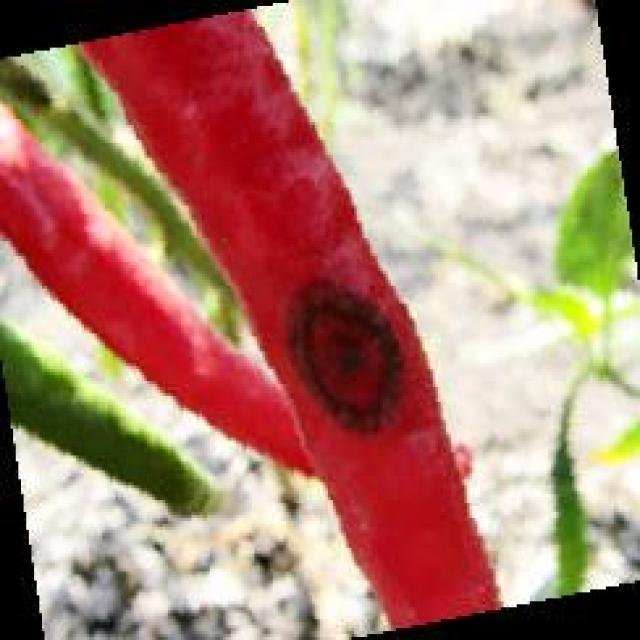Moko: (270, 277, 426, 470)
